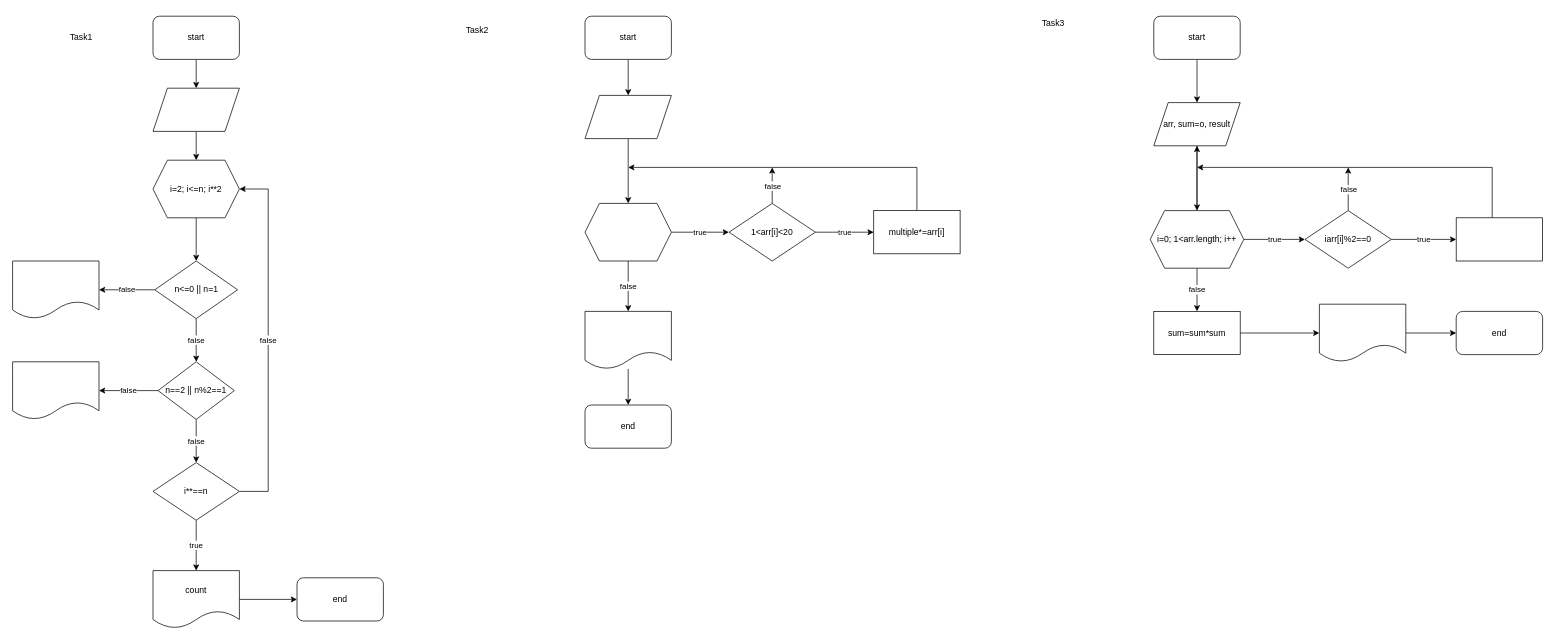
This 1555x641 diagram has some shape labels left out. The shapes that lost their labels are listed below. From the top down, each one's centre as x and y in pixels, then its label:
At (x=195, y=109): "n, count=2".
At (x=627, y=117): "arr, multiple=o".
At (x=627, y=232): "i=1; 1<arr.length; i++".
At (x=1499, y=239): "sum+=arr[i]".
At (x=55, y=289): "duzgun reqem daxil edin".
At (x=627, y=340): "multiple".
At (x=1362, y=332): "result".
At (x=55, y=390): "n ededi 2-nin hec bir quvvetine beraber deyil".
